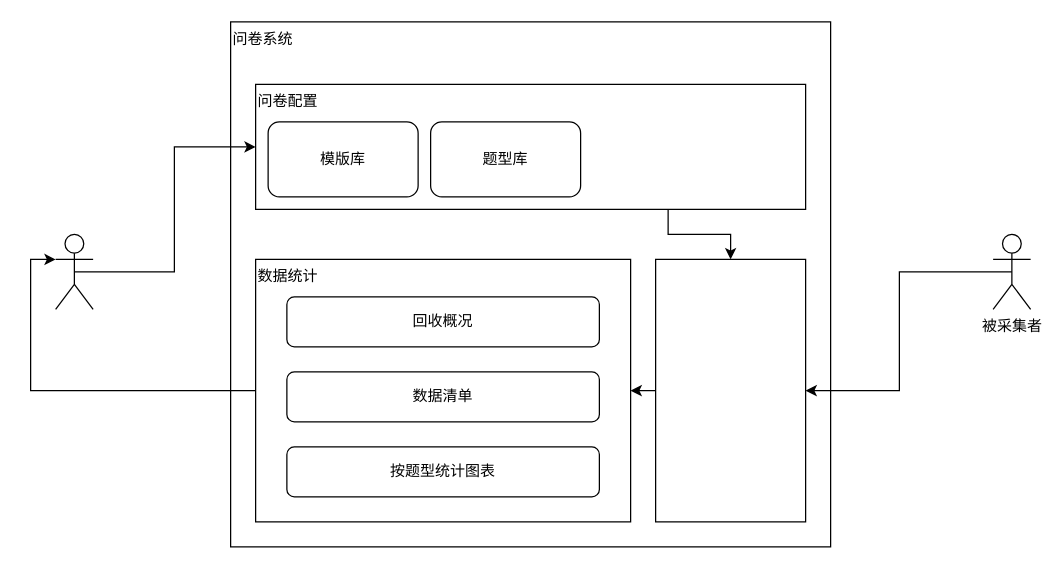
This 1064x569 diagram has some shape labels left out. The shapes that lost their labels are listed below. From the top down, each one's centre as x and y in pixels, then its label:
At pixel 73 271: "采集者".
At pixel 730 390: "问卷母版".
